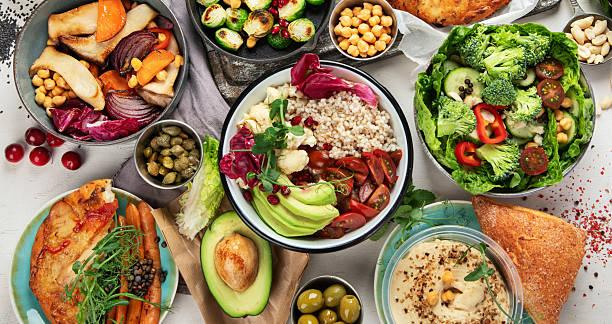Braised Crucian Carp: (217, 59, 404, 253), (413, 23, 591, 197), (376, 197, 589, 322), (12, 1, 184, 148), (9, 184, 176, 323)
